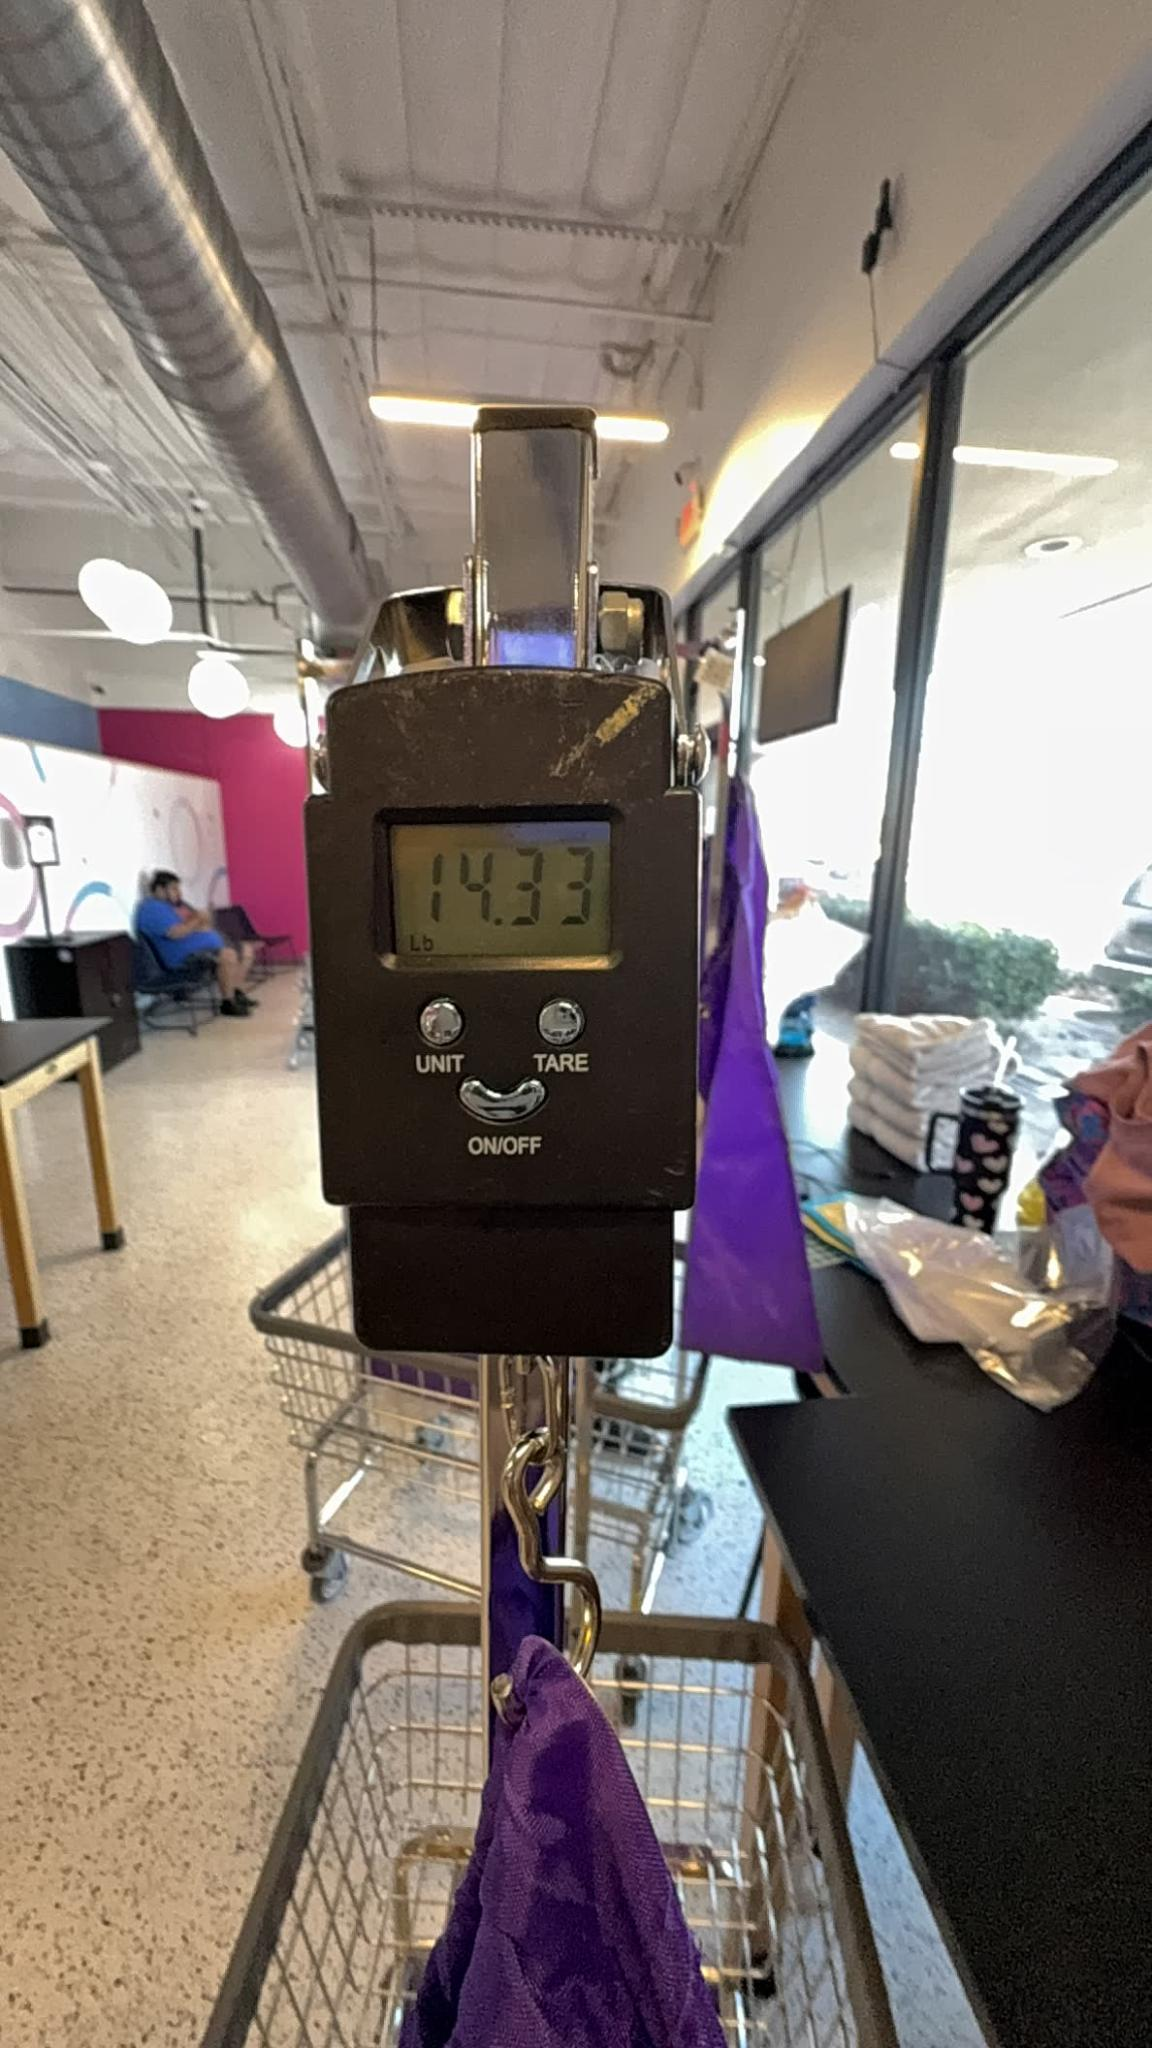LED-display: (379, 814, 618, 963)
